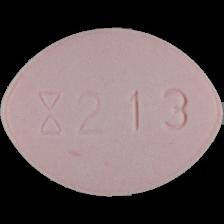0172-5413: (0, 0, 224, 224)
